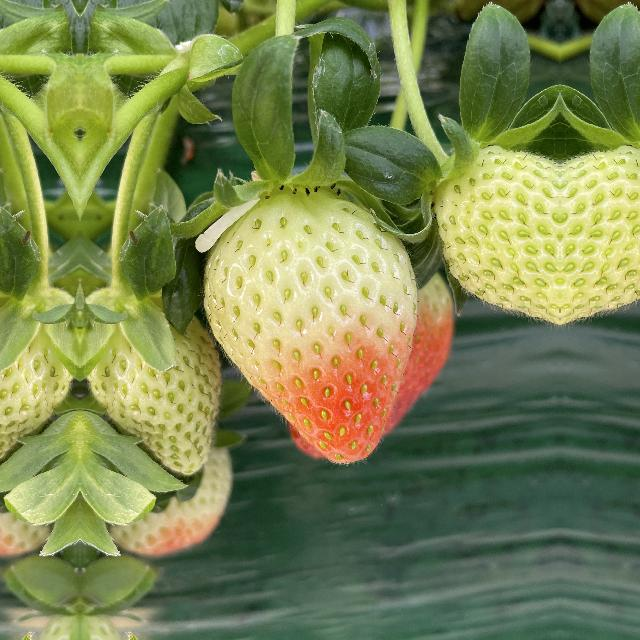Health_25: (80, 290, 228, 478), (435, 146, 559, 334), (561, 145, 640, 334), (0, 290, 79, 478)
Health_50: (195, 198, 428, 470)
